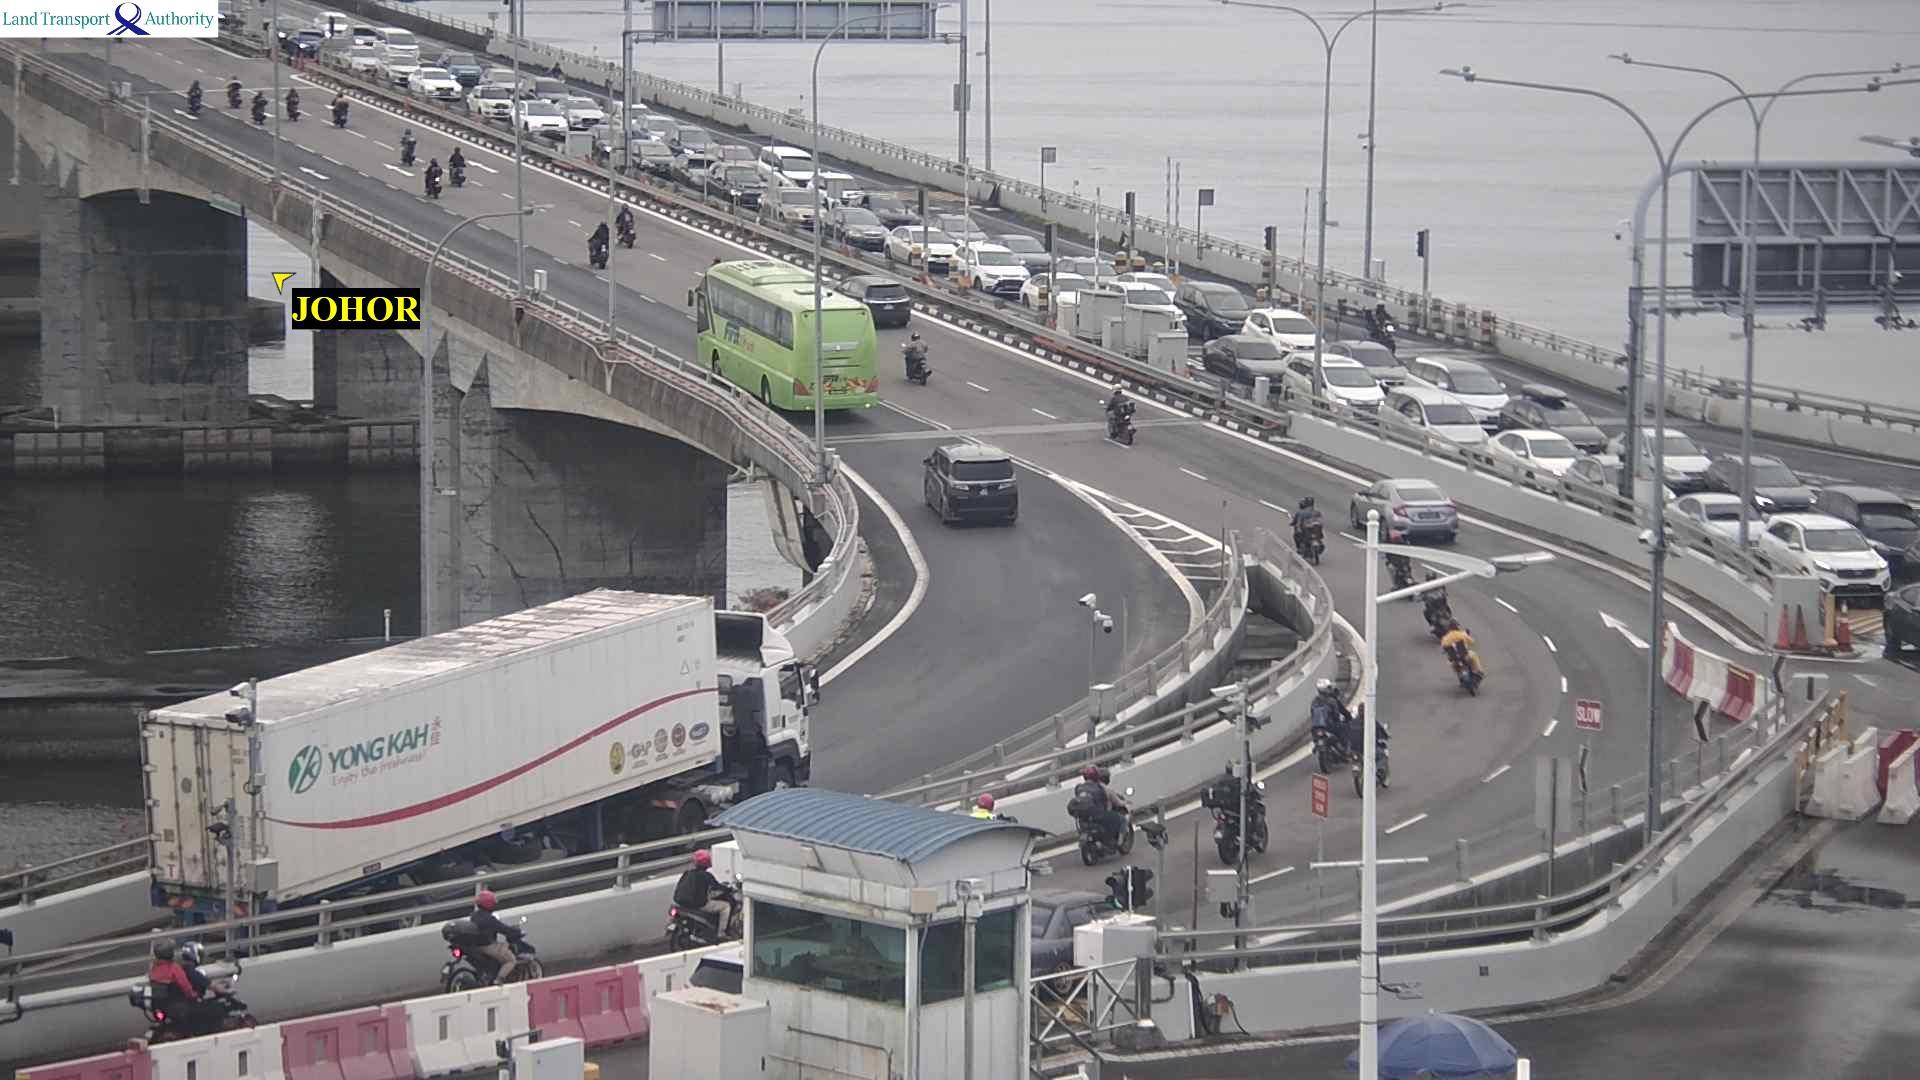vehicle-secondlink-johor: (143, 739, 728, 920), (140, 793, 476, 922), (715, 265, 865, 413), (137, 958, 259, 1042), (925, 446, 1022, 528), (1359, 478, 1470, 542), (1319, 686, 1389, 774), (1072, 773, 1128, 859), (1443, 616, 1486, 693), (1211, 767, 1268, 823), (1286, 498, 1326, 561), (902, 337, 933, 382), (1105, 394, 1134, 441), (595, 219, 626, 256), (605, 217, 635, 253), (618, 215, 640, 248), (452, 143, 468, 187), (407, 125, 421, 169), (428, 155, 438, 204), (331, 100, 349, 127), (187, 80, 202, 108), (289, 95, 305, 120), (254, 96, 264, 130), (226, 82, 238, 104)
vehicle-secondlink-singapore: (1761, 519, 1906, 570), (1710, 456, 1824, 513), (1498, 398, 1616, 450), (1406, 357, 1521, 404), (1749, 483, 1903, 518), (1284, 359, 1412, 397), (1091, 279, 1224, 315), (1491, 420, 1620, 456), (1817, 481, 1920, 525), (1609, 427, 1716, 469), (1209, 325, 1337, 358), (959, 240, 1064, 277), (1207, 340, 1304, 380), (1301, 343, 1412, 375), (710, 176, 828, 206), (1483, 434, 1595, 465), (498, 99, 606, 130), (1241, 310, 1333, 345), (1664, 492, 1764, 522), (886, 232, 968, 267), (813, 211, 891, 246), (831, 278, 912, 311), (1882, 580, 1919, 652), (759, 149, 830, 186), (1860, 123, 1919, 167), (947, 265, 1045, 291), (1023, 274, 1117, 299), (857, 192, 924, 223), (822, 188, 908, 211), (752, 189, 828, 215), (530, 96, 603, 120), (810, 175, 877, 201), (751, 143, 815, 170), (392, 70, 466, 93), (355, 45, 428, 68), (620, 113, 680, 140), (622, 130, 695, 152), (925, 218, 988, 243), (458, 90, 530, 111), (1876, 297, 1920, 331), (327, 46, 394, 68), (343, 42, 407, 65), (621, 147, 682, 170), (660, 125, 716, 150), (283, 31, 334, 56), (456, 66, 520, 85), (372, 40, 428, 60), (476, 78, 537, 96), (440, 60, 488, 81), (362, 29, 421, 46), (424, 50, 476, 68), (682, 151, 732, 168), (349, 26, 380, 41)
